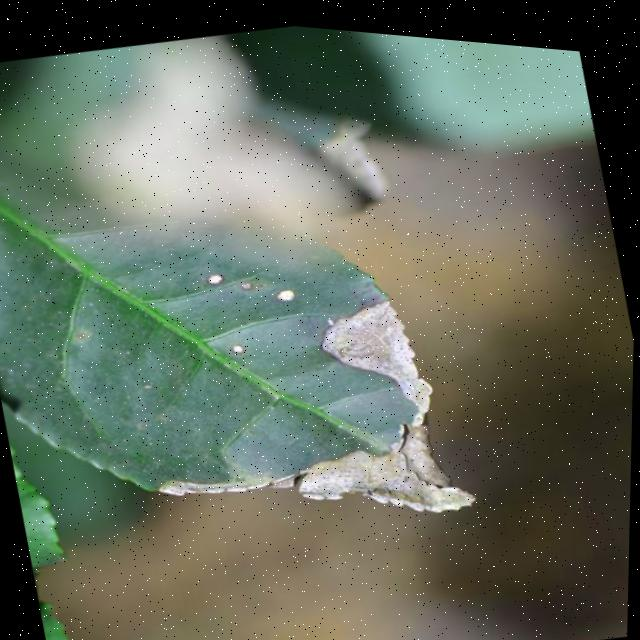Tea cloud leaf blight: (121, 261, 498, 560)
